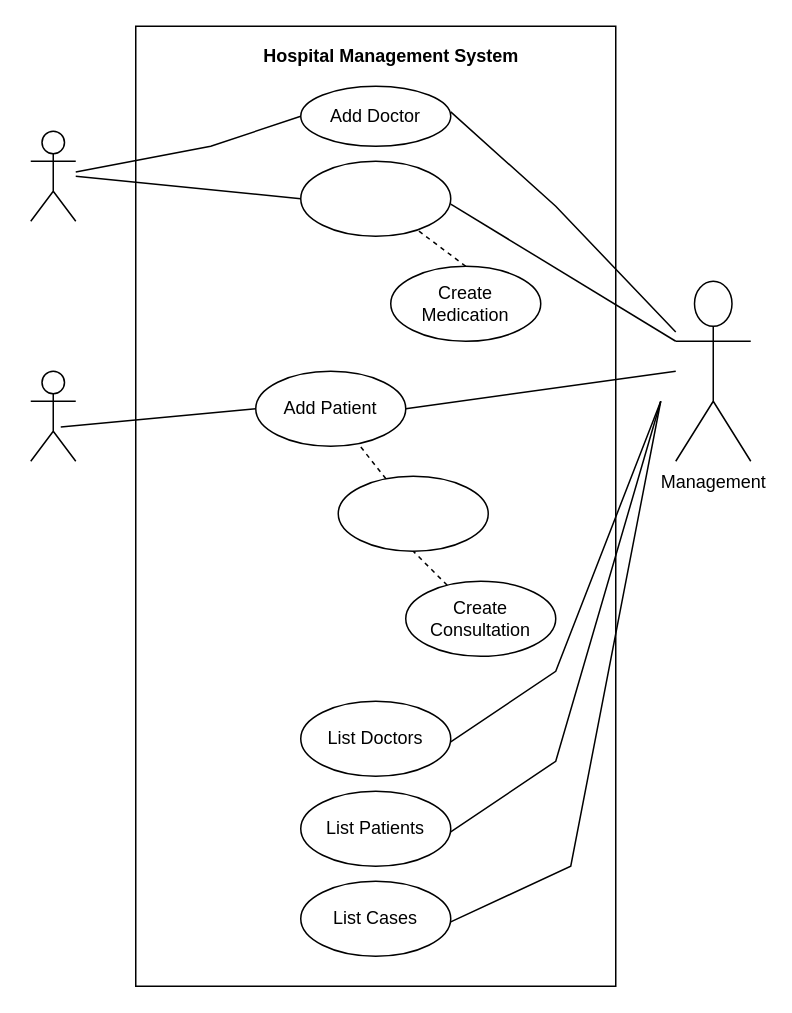
The diagram is 792 pixels wide and 1013 high, and some of its shapes have lost their labels. The shapes that lost their labels are listed below. From the top down, each one's box as (x1, y1, x2, y2) in pixels, then its label:
(29, 130, 76, 221): Doctor
(299, 160, 451, 236): Handle Consultation
(29, 370, 76, 461): Patient
(337, 475, 488, 551): Create Case
